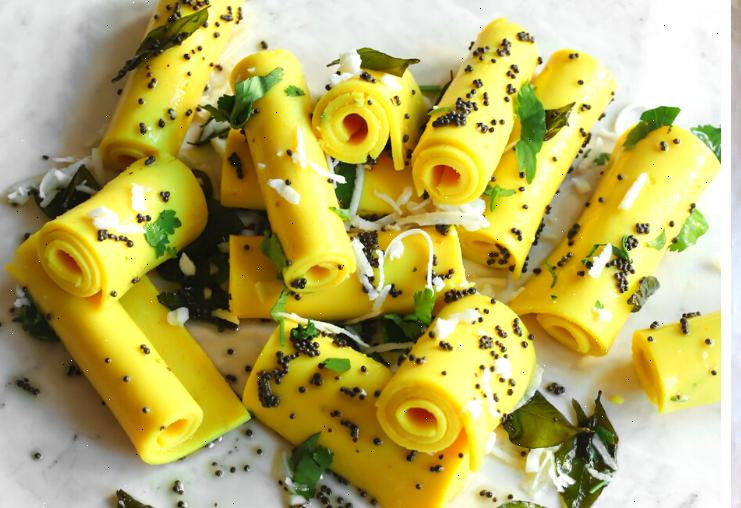khandvi: (45, 35, 701, 472)
